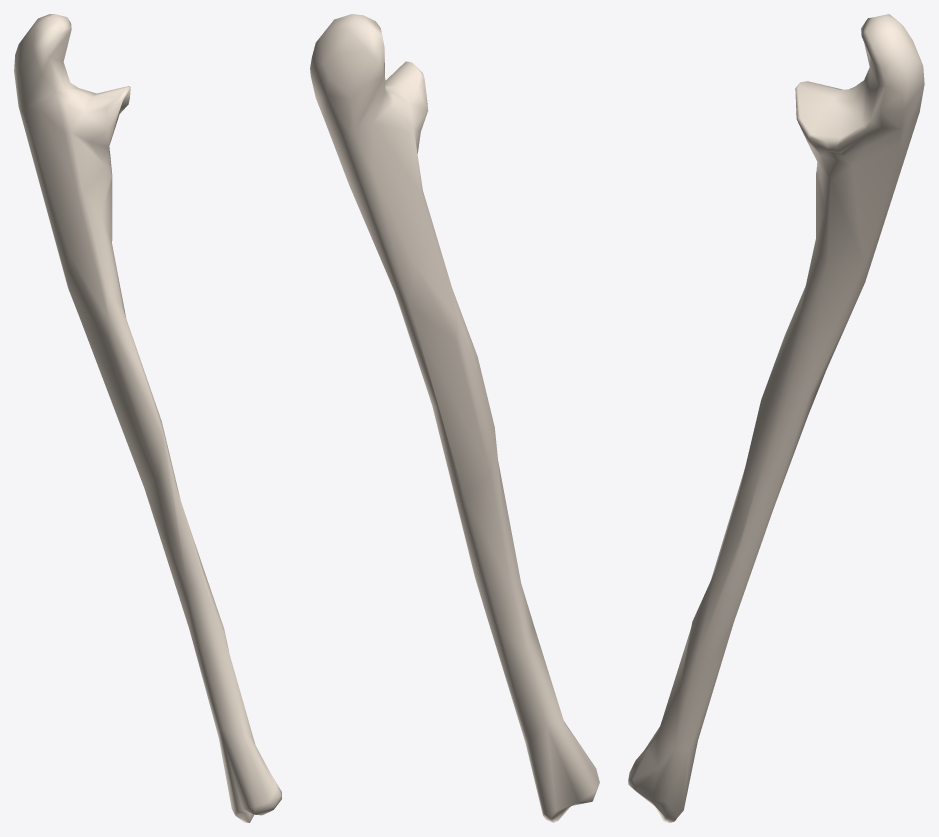
File: right_ulna.glb
The picture shows the model from 3 angles, left to right: view 1: azimuth 90°, elevation 25°; view 2: azimuth 150°, elevation 25°; view 3: azimuth 270°, elevation 25°; orthographic projection. The views are drawn at different scales.
Parts seen in each view (by area): view 1: Ulna.r; view 2: Ulna.r; view 3: Ulna.r.
Part boxes in pixels (bbox=[...]): Ulna.r: bbox=[14, 14, 281, 822]; Ulna.r: bbox=[310, 14, 599, 822]; Ulna.r: bbox=[628, 14, 924, 822].
Bounding box in the file's own units: 0.0512 × 0.2616 × 0.0828.
